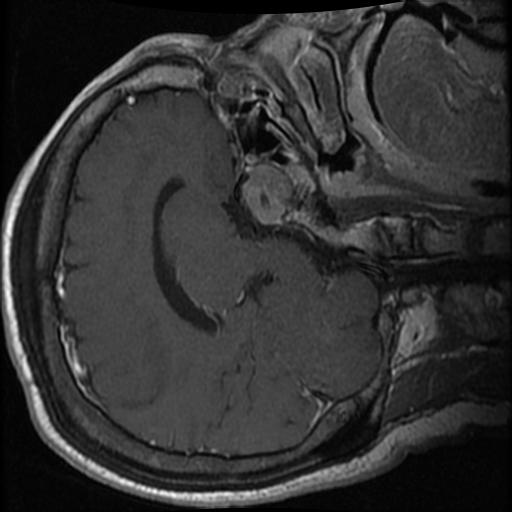pituitary tumour: (243, 165, 289, 222)
